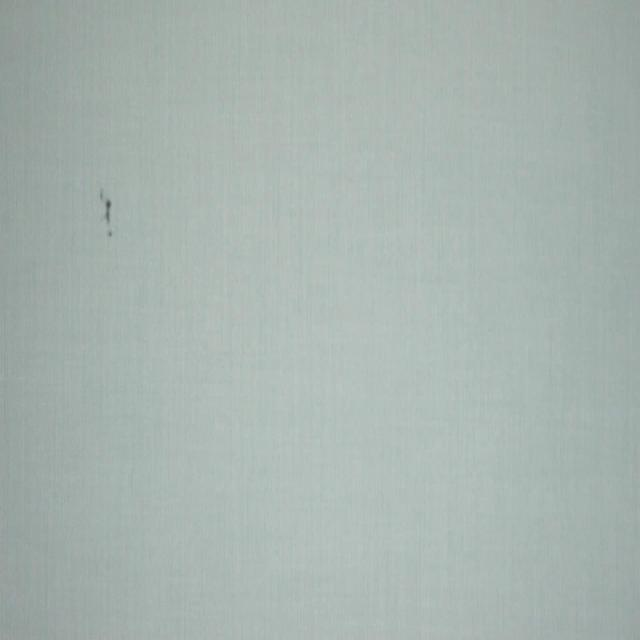dirty: (100, 188, 114, 241)
